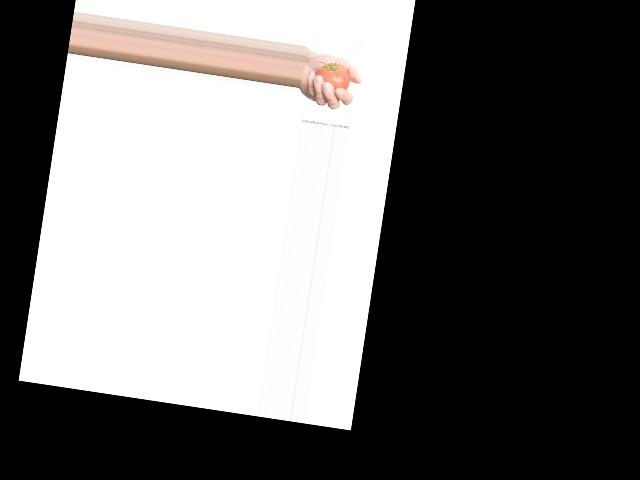tomato: (313, 61, 352, 91)
